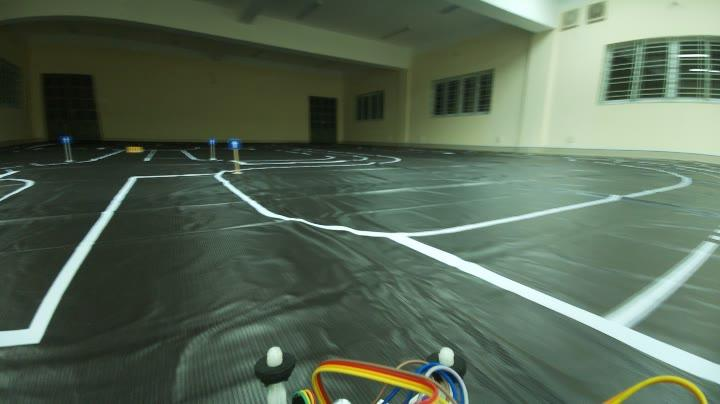onewayroad: (228, 136, 242, 150), (206, 136, 220, 148), (62, 134, 71, 144)
roadblock: (126, 142, 148, 154)
